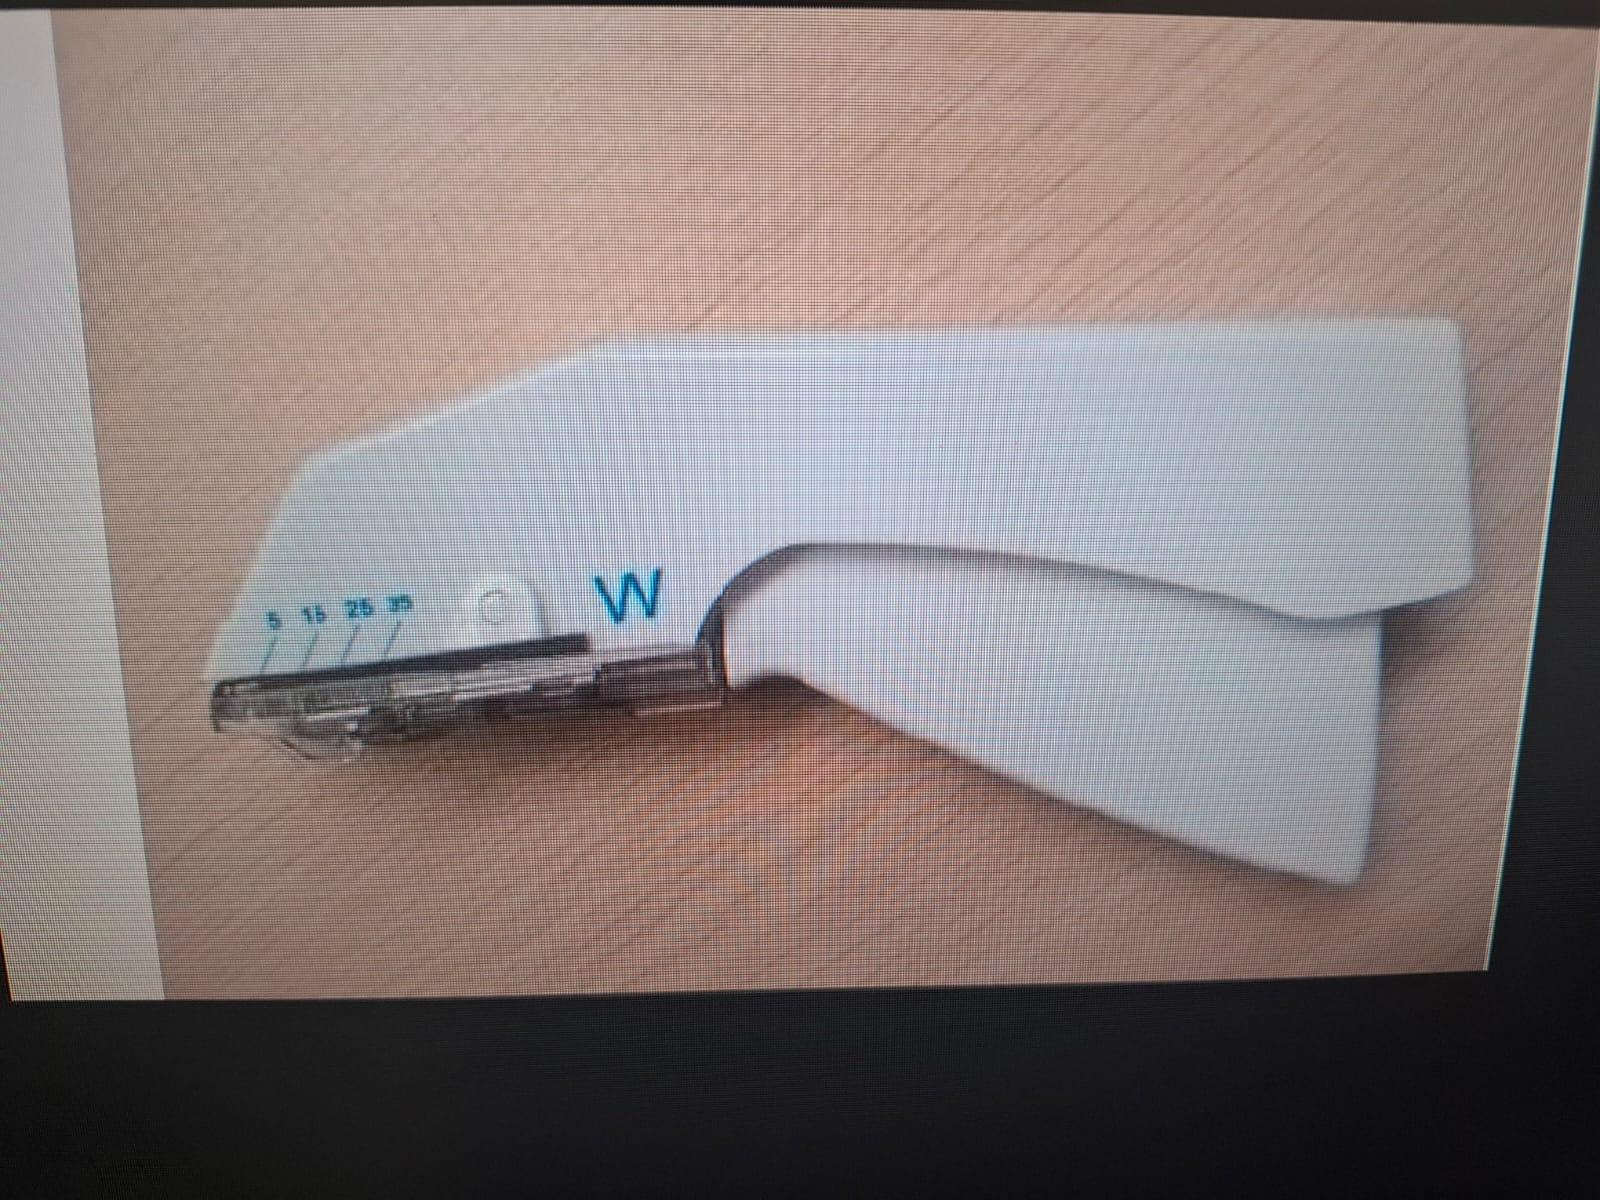Skin Stapler: (182, 300, 1480, 912)
